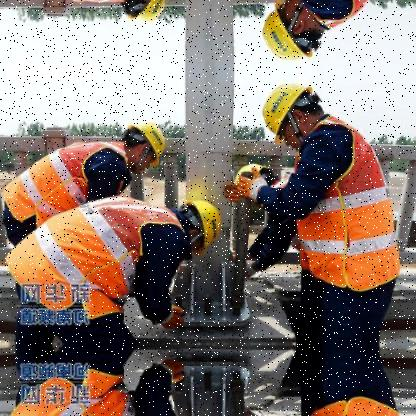helmet: (253, 74, 324, 145), (253, 0, 325, 67), (122, 118, 170, 171), (178, 196, 222, 250), (229, 160, 278, 198), (121, 0, 170, 23)
